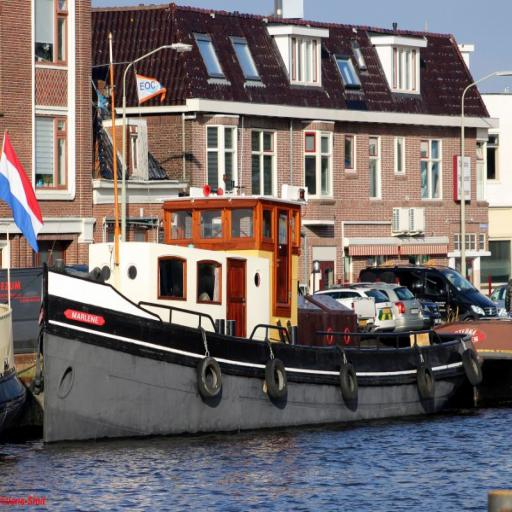tugboat: (40, 179, 486, 456)
